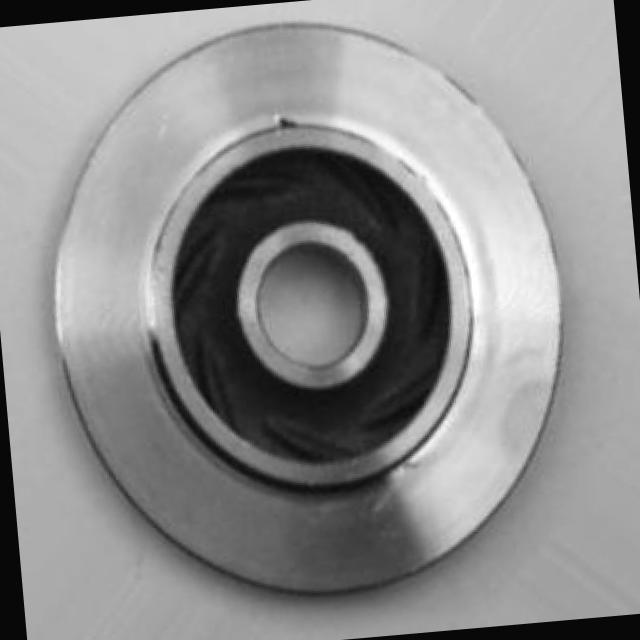Defect: (272, 112, 306, 134)
